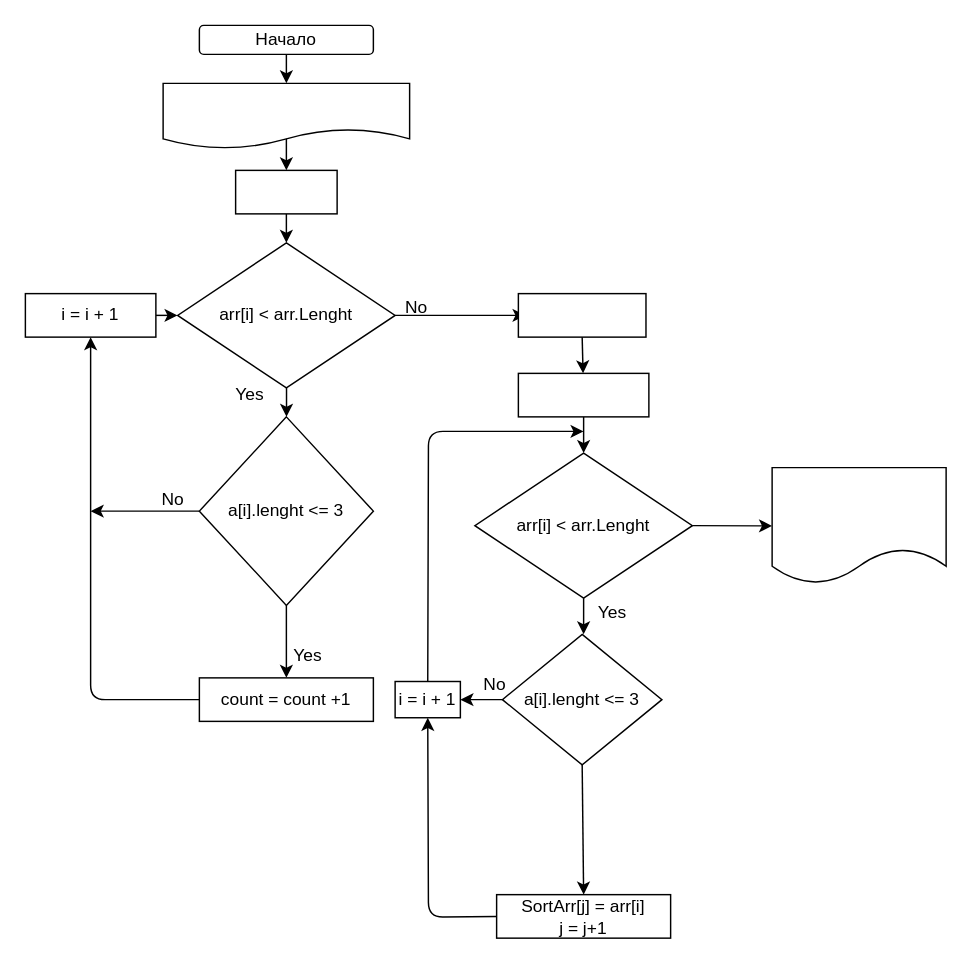
This 972x964 diagram has some shape labels left out. The centre of each missing label's shape, as x and y in pixels:
"arr = [“Hello”, “2”, “world”, “:-)”]" belongs at pixel 286 115.
"i = 0" belongs at pixel 285 191.
"int[] SortArr = new int[count]" belongs at pixel 581 314.
"j = 0" belongs at pixel 583 394.
"Отсортированный массив: SortArr" belongs at pixel 858 525.
